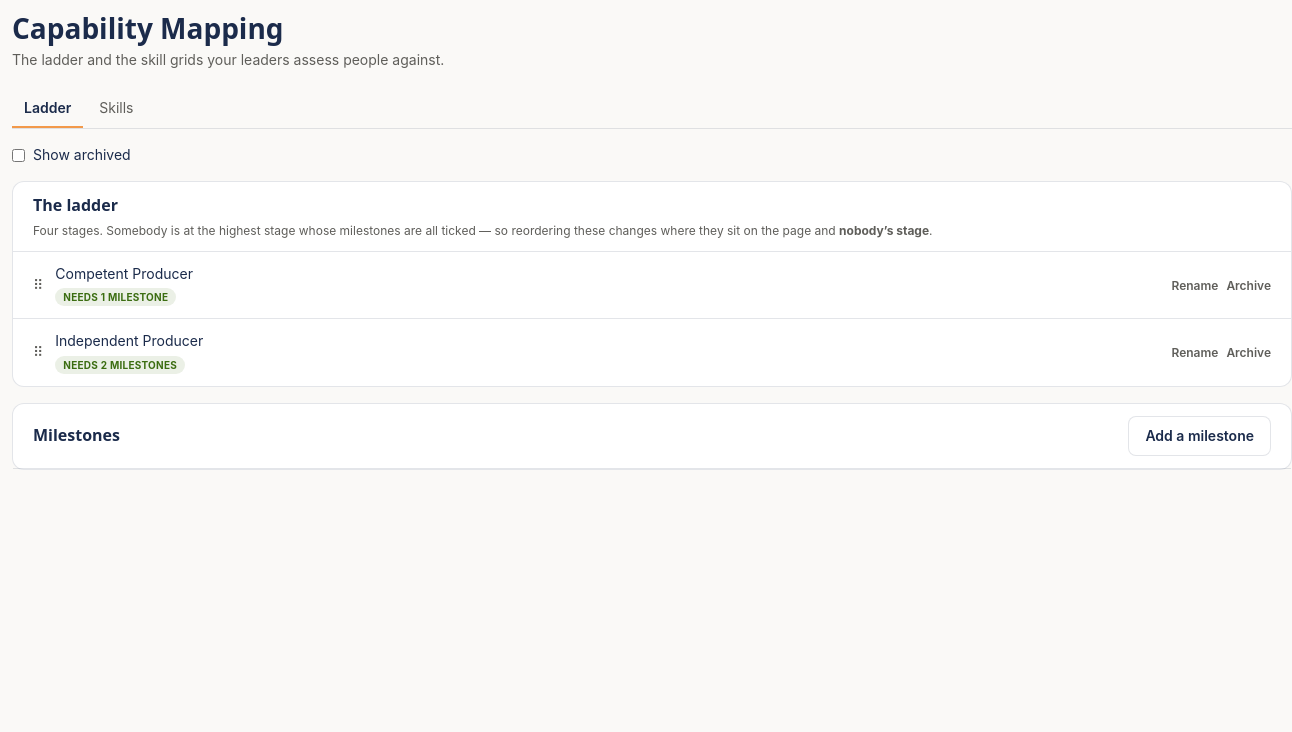
Test case: the capability catalog screen › hides archived rows until asked
Expected: the text "Sells policies independently" is not shown
Click the checkbox labelled "Show archived": (18, 155) [12,149,25,162]
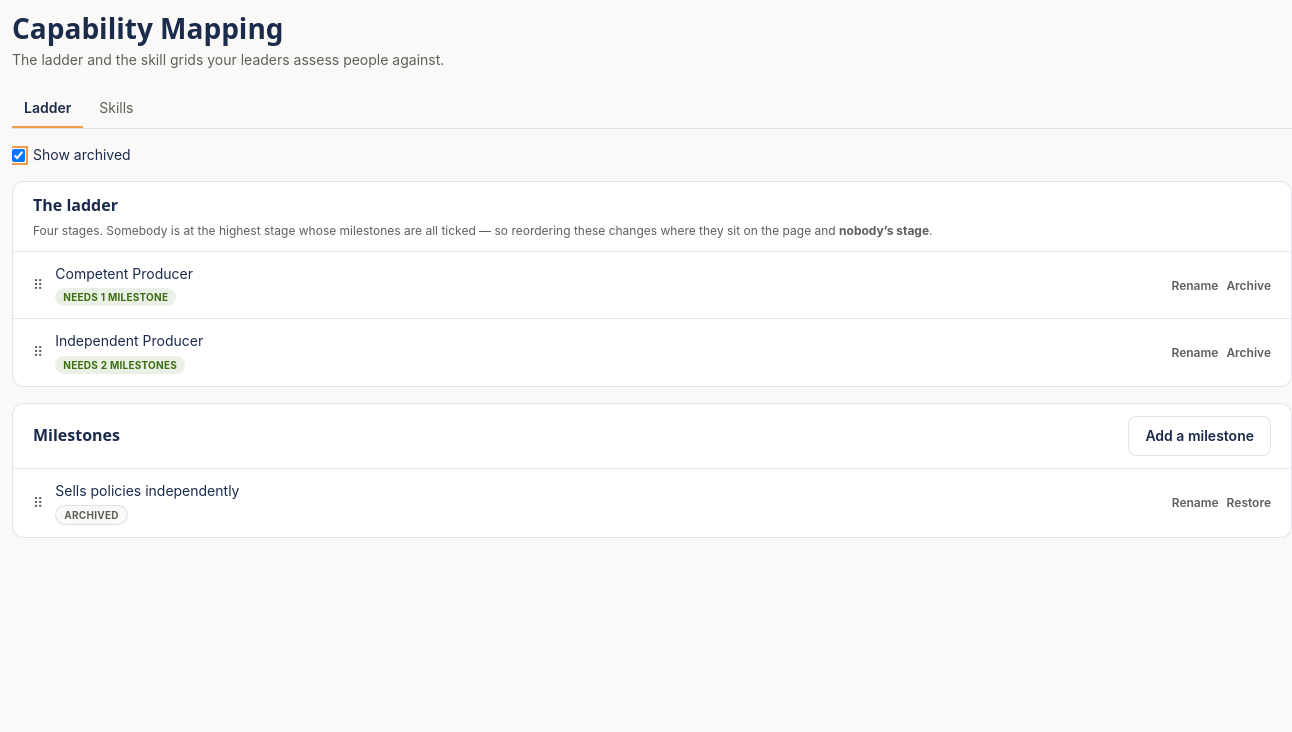
Now the text "Sells policies independently" is shown, box [55,482,240,499]
